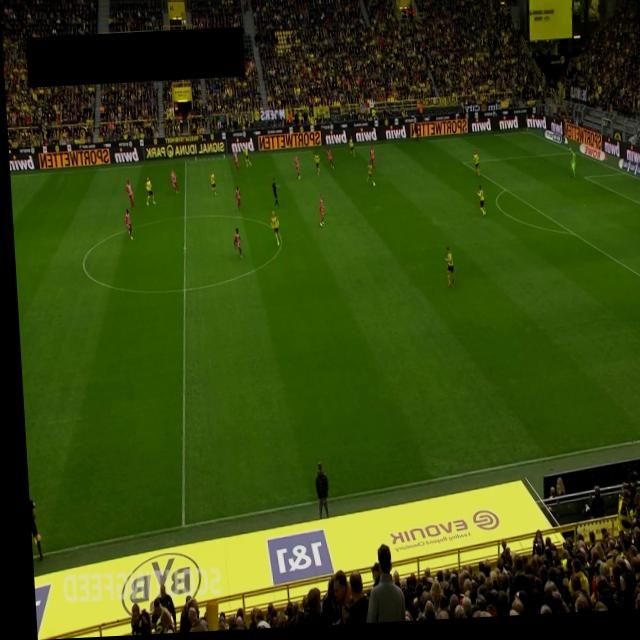goalkeeper: (567, 156, 575, 184)
player: (441, 251, 452, 293), (267, 212, 278, 249), (230, 229, 242, 262), (143, 177, 154, 208), (123, 180, 132, 212), (121, 209, 130, 241), (474, 189, 483, 221), (363, 166, 373, 191), (315, 196, 322, 231), (168, 171, 177, 196), (470, 154, 478, 182), (324, 149, 333, 173), (291, 157, 299, 183), (207, 172, 215, 198), (230, 151, 238, 177), (240, 149, 249, 170), (312, 153, 319, 180), (367, 148, 374, 174), (232, 188, 239, 214), (346, 139, 353, 161)
referee: (23, 499, 36, 562), (269, 180, 278, 210), (410, 122, 417, 147)
